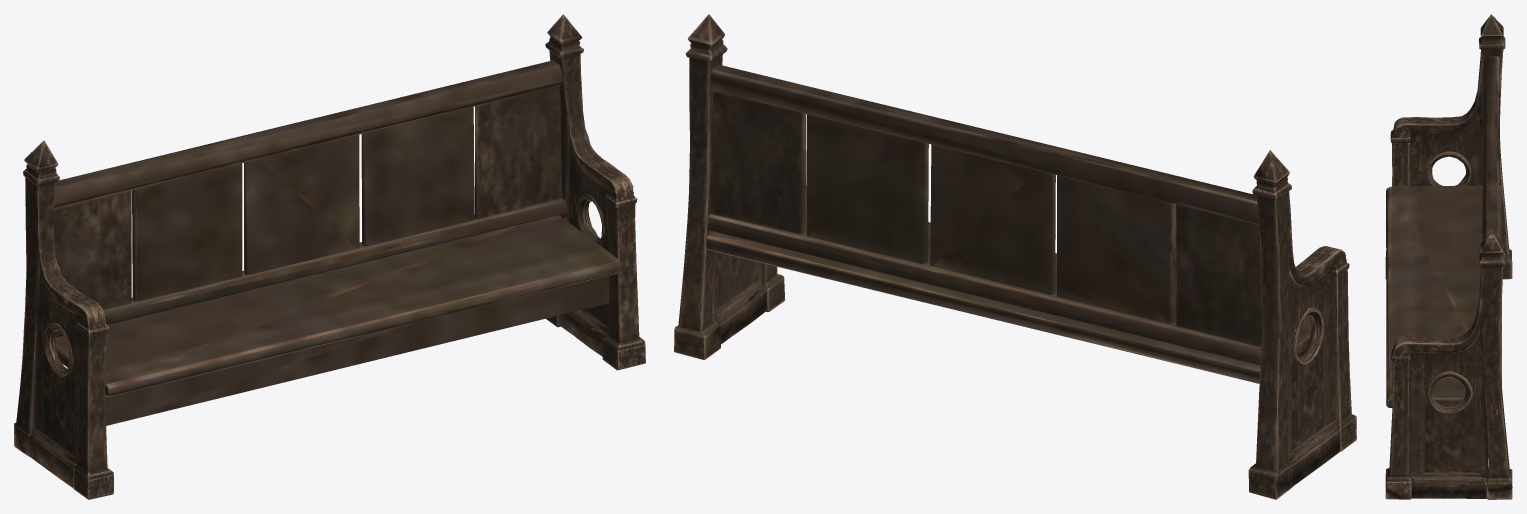
File: h_bench.glb
3 views of the same model, side by side, from view 1: azimuth 30°, elevation 25°; view 2: azimuth 150°, elevation 25°; view 3: azimuth 270°, elevation 25° (orthographic). The views are drawn at different scales.
Parts seen in each view (by area): view 1: h_bench; view 2: h_bench; view 3: h_bench.
Part boxes in pixels (x1,y1,x2,y2): h_bench: (14, 14, 645, 499); h_bench: (674, 14, 1356, 499); h_bench: (1385, 14, 1512, 499).
Bounding box in the file's own units: 2 × 1.07 × 0.4663.
1 material, 1 textured.
